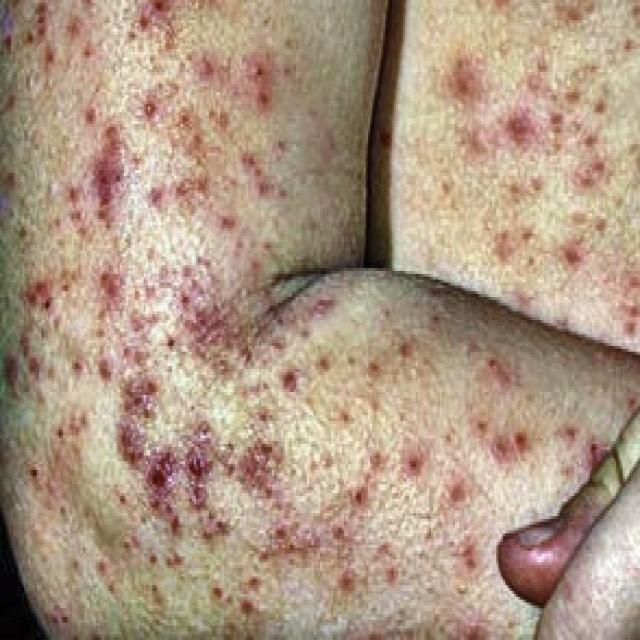Eczema: (34, 13, 619, 593)
